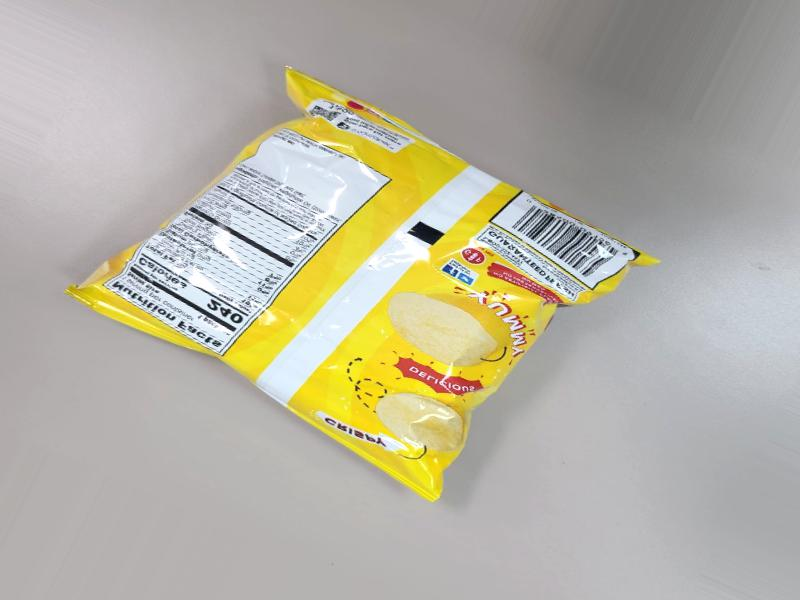lays: (151, 21, 668, 513)
